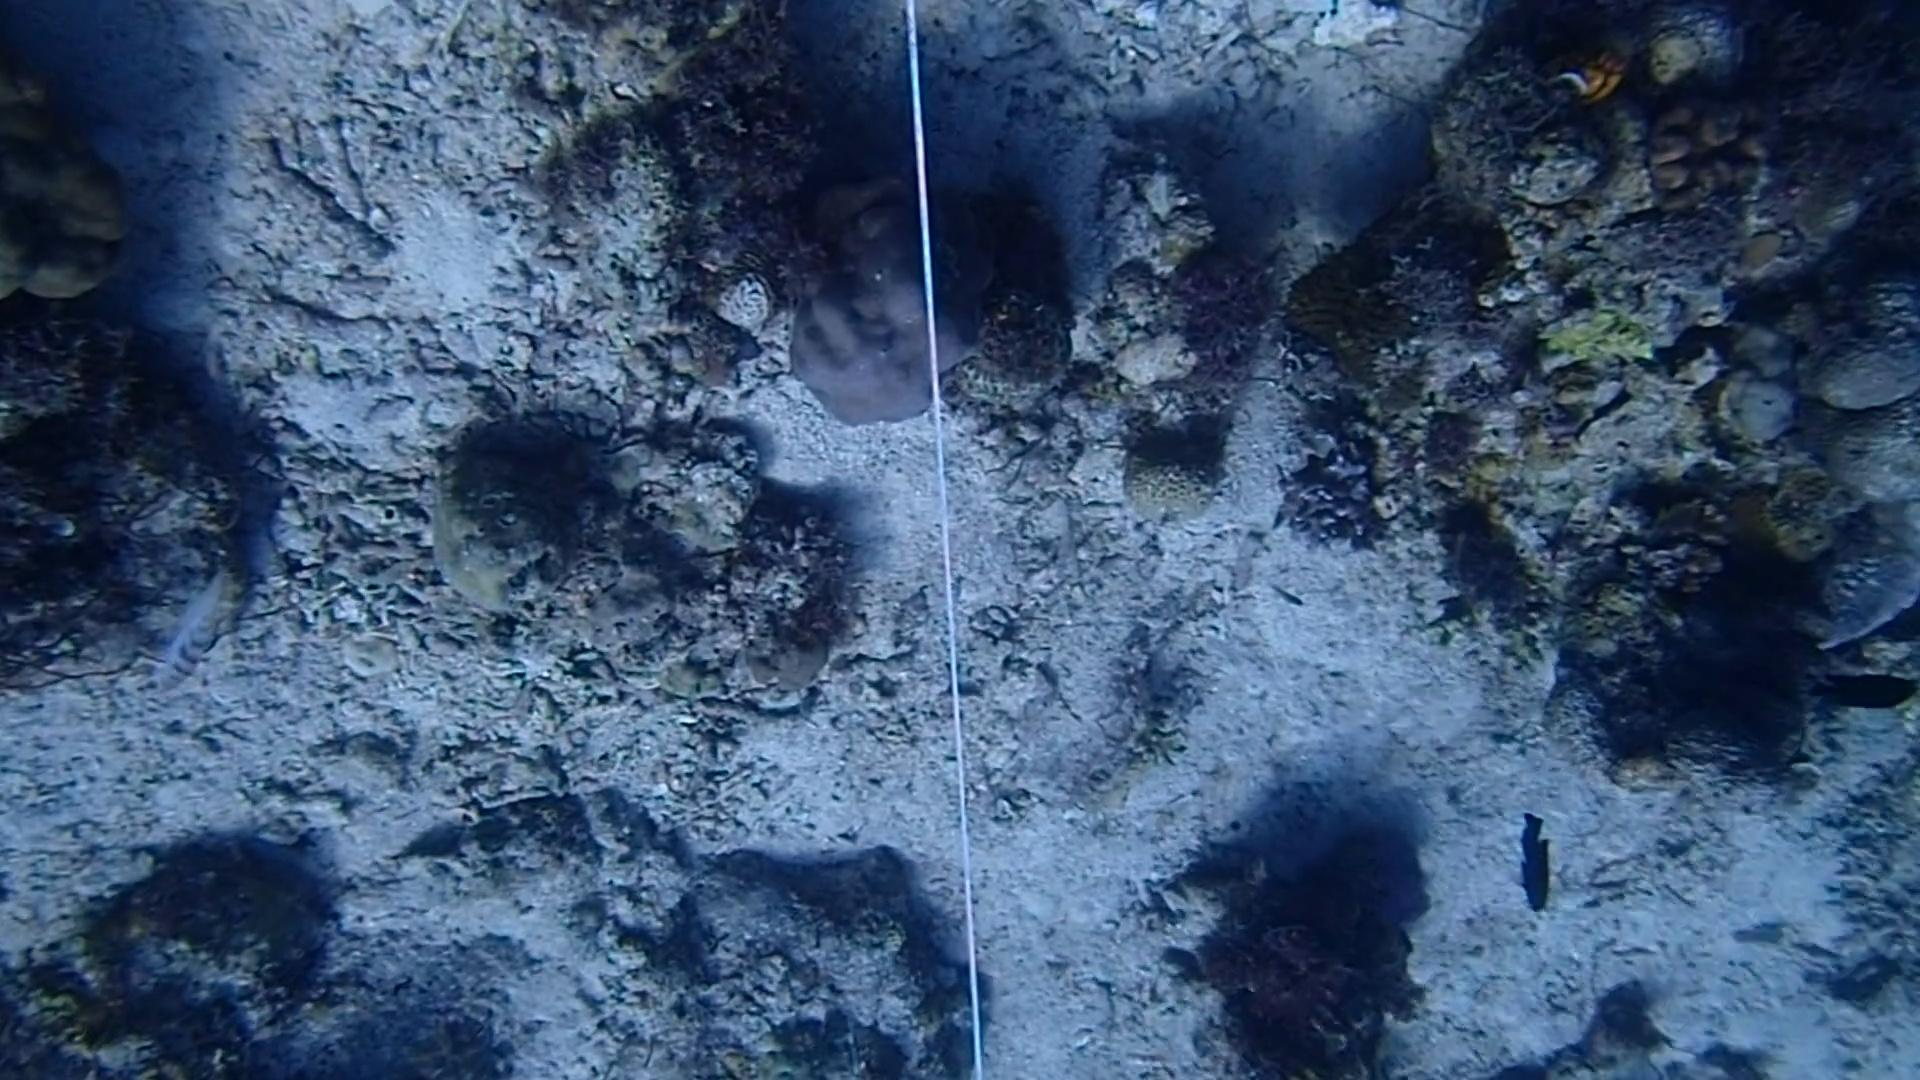Dark Fish: (1796, 657, 1920, 740), (1497, 803, 1564, 930)
Light Fish w Back Stripes: (136, 558, 240, 704)
